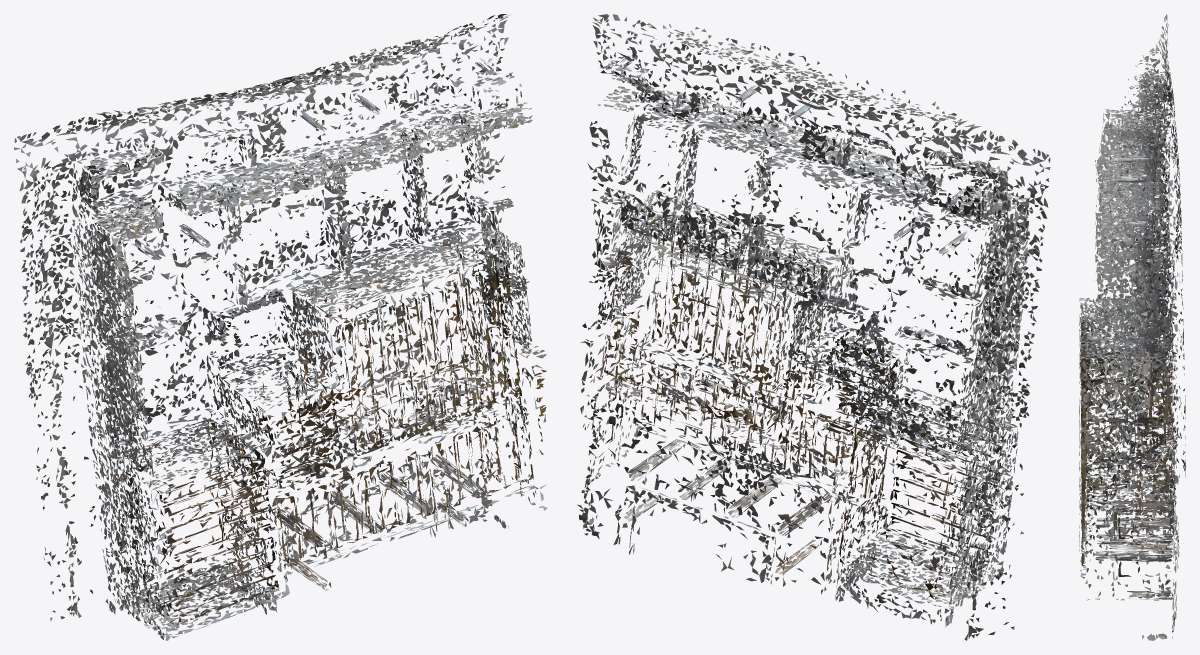
The picture shows the model from 3 angles, left to right: view 1: azimuth 30°, elevation 25°; view 2: azimuth 150°, elevation 25°; view 3: azimuth 270°, elevation 25°; orthographic projection. The views are drawn at different scales.
Bounding box in the file's own units: 26.77 × 28.04 × 6.
Materials: 1 (1 with a texture image).
